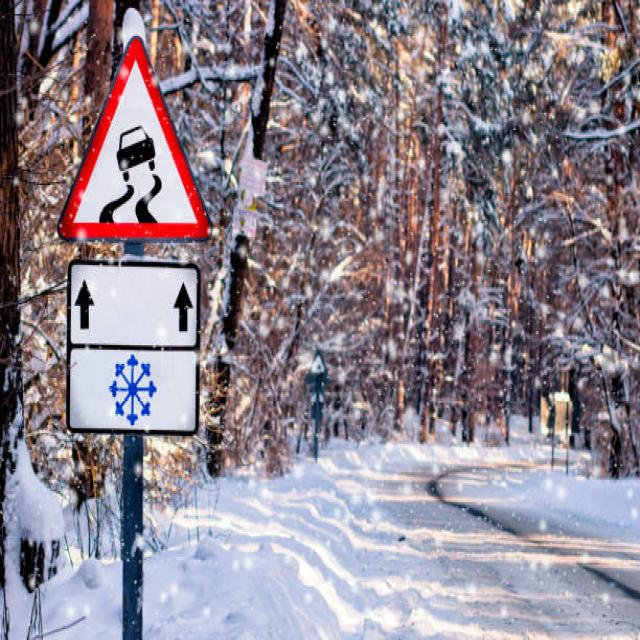road_slippery: (61, 34, 215, 253)
